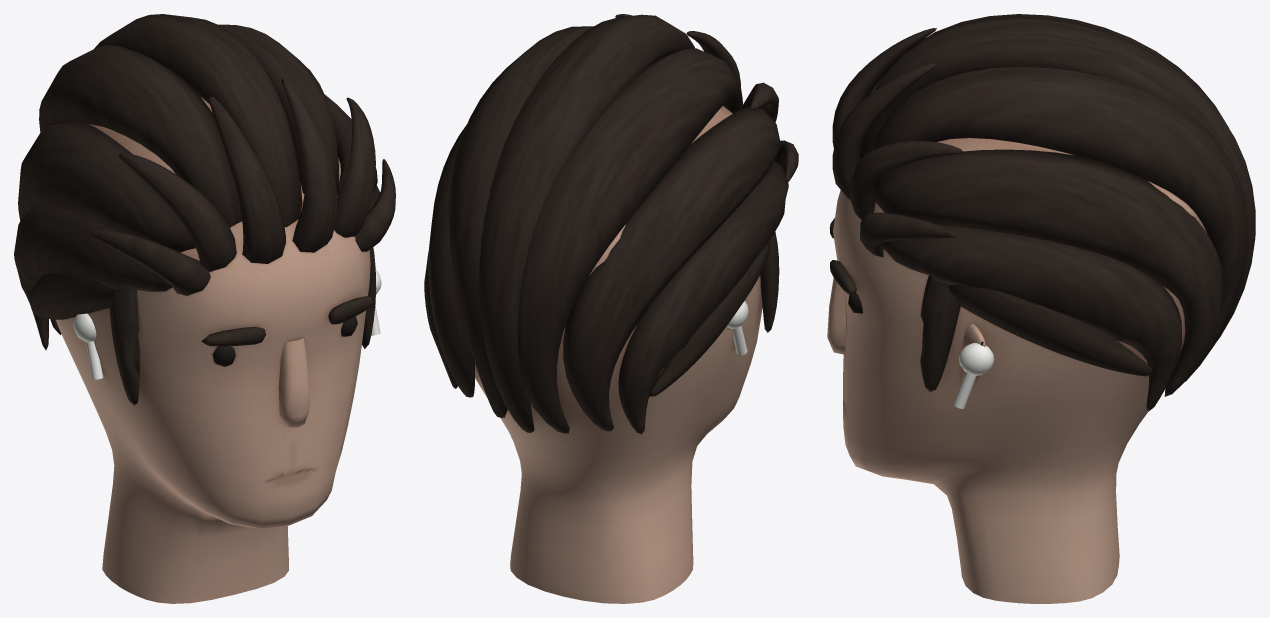
File: PH_NPC__Youth_Head.fbx
The picture shows the model from 3 angles, left to right: view 1: azimuth 30°, elevation 25°; view 2: azimuth 150°, elevation 25°; view 3: azimuth 270°, elevation 25°; orthographic projection. The views are drawn at different scales.
Visible parts, largest first — view 1: PH_NPC__Youth_Head; view 2: PH_NPC__Youth_Head; view 3: PH_NPC__Youth_Head.
Part boxes in pixels (x1=…): PH_NPC__Youth_Head: x1=14, y1=14, x2=395, y2=603; PH_NPC__Youth_Head: x1=424, y1=14, x2=798, y2=603; PH_NPC__Youth_Head: x1=827, y1=14, x2=1255, y2=603.
Bounding box in the file's own units: 0.1754 × 0.3032 × 0.2161.
